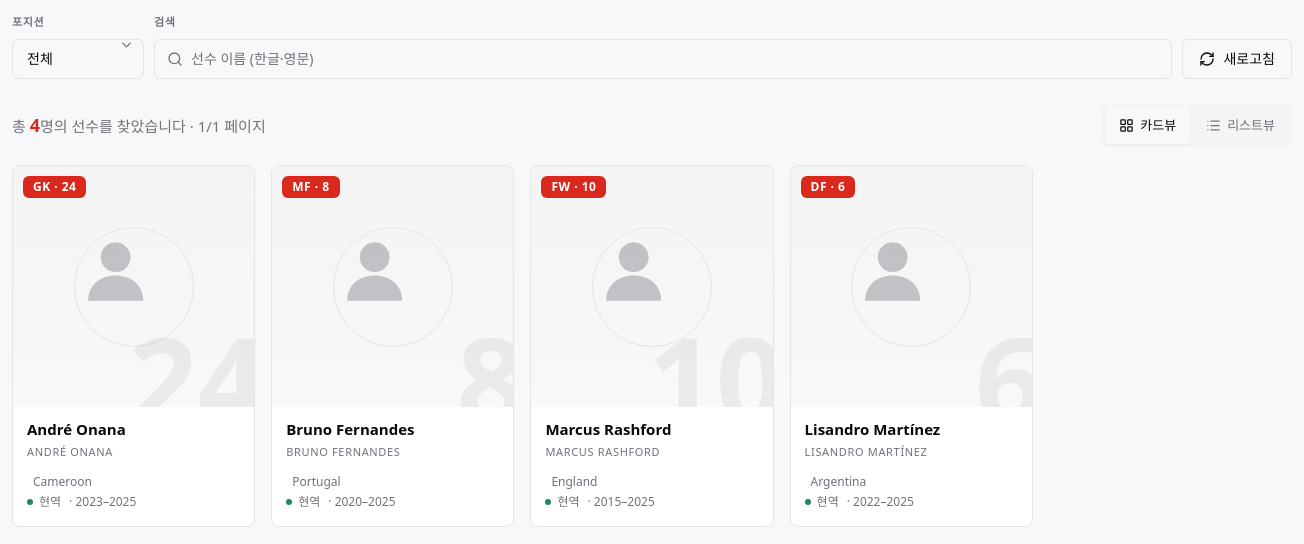
Test: RosterPanel › 뷰 토글 — 리스트뷰로 전환하면 리스트 헤더가, 다시 카드뷰로 전환하면 그리드가 보인다
Click the radio button labelled "리스트뷰": coordinates (1241, 125) [1206, 116, 1275, 134]
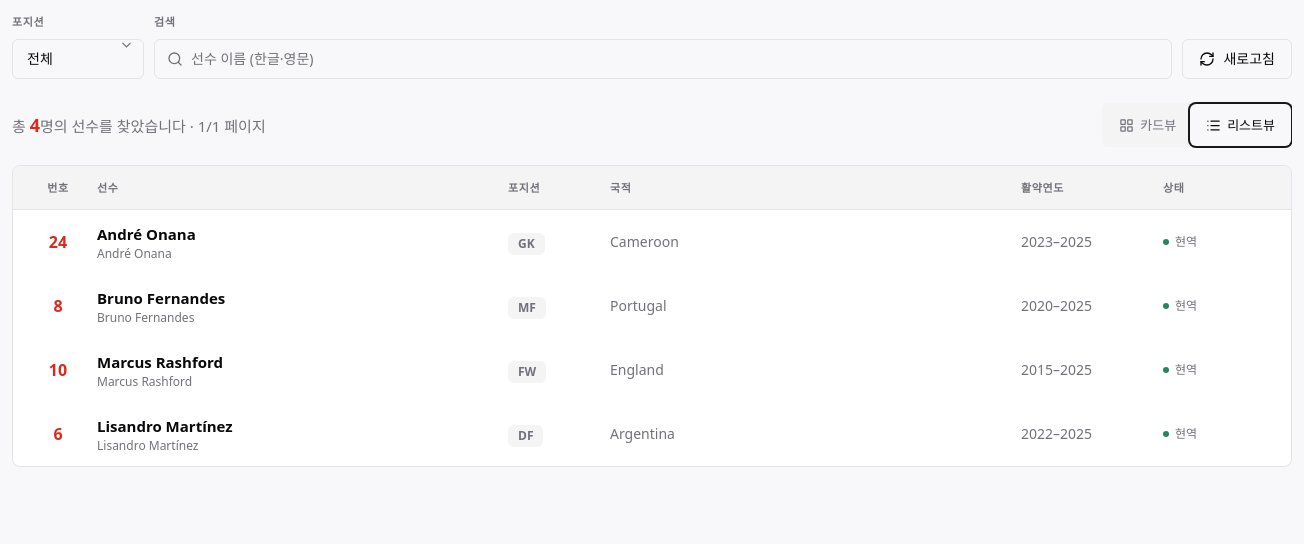
Expected: the text "국적" is shown, [610, 180, 632, 194]
Click the radio button labelled "카드뷰": coordinates (1148, 125) [1119, 116, 1176, 134]
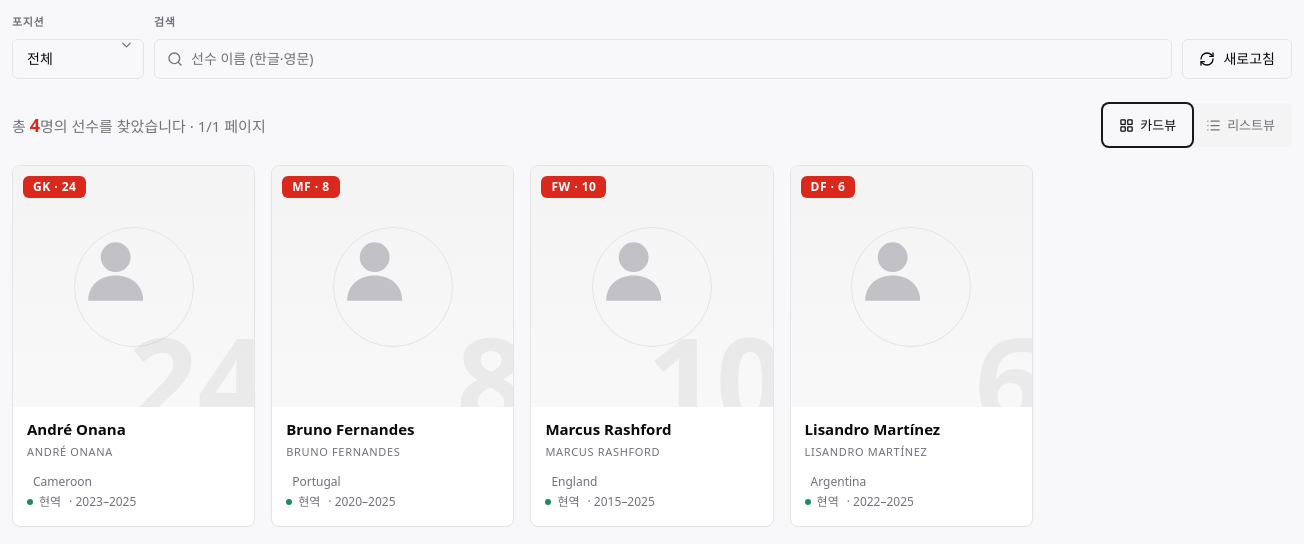
Expected: the text "국적" is gone
